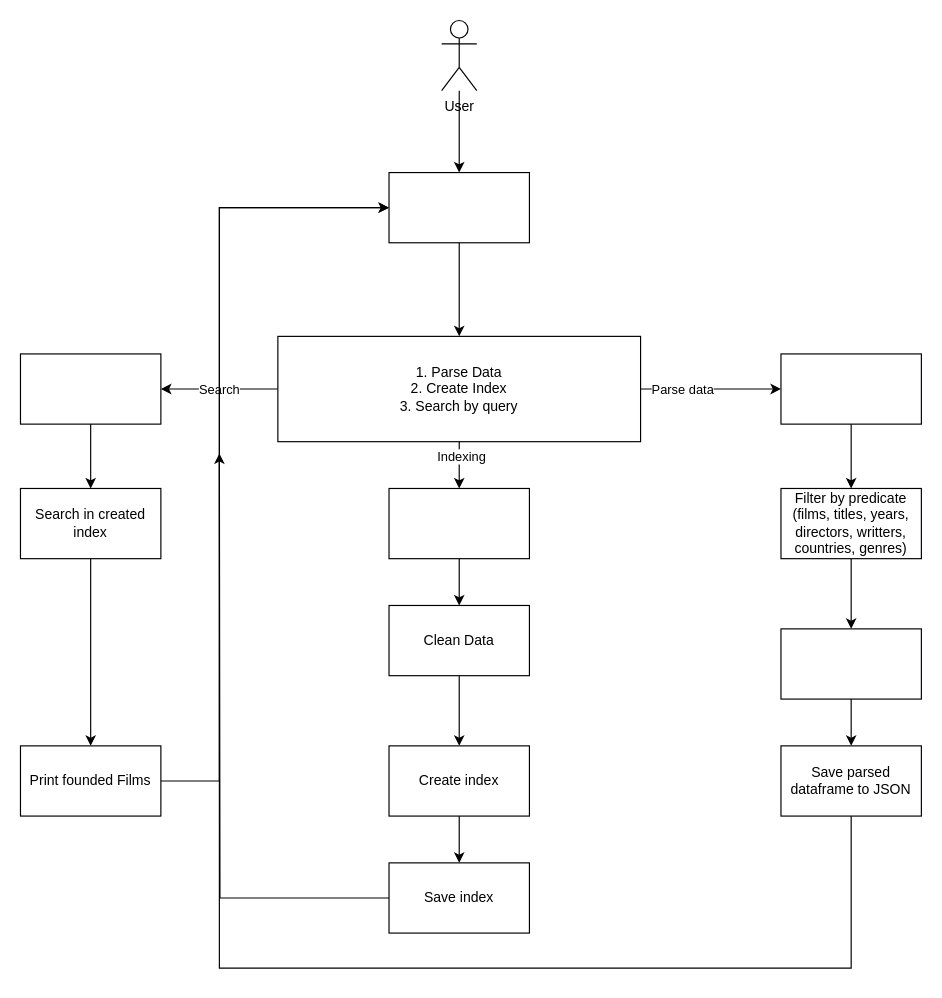
Image size: 942x998. Some labels were removed from this diagram. The shapes that lost their labels are listed below. From the top down, each one's centre as x and y in pixels, then its label:
At (458,207): "Choose".
At (90,388): "Parse Query".
At (850,388): "Load N-Triples to dataframe".
At (458,523): "Load Parsed Data".
At (850,663): "Join".
